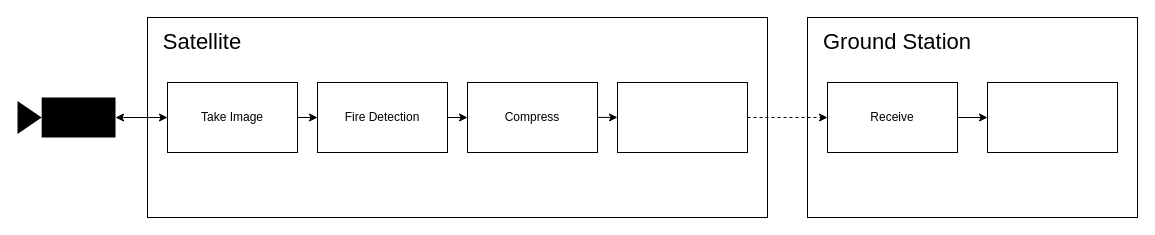
The diagram is 1155 pixels wide and 235 high, and some of its shapes have lost their labels. The box of each missing label's shape, as (x1, y1, x2, y2) in pixels:
Display Image: (986, 82, 1118, 152)
Transmit: (616, 82, 748, 152)
